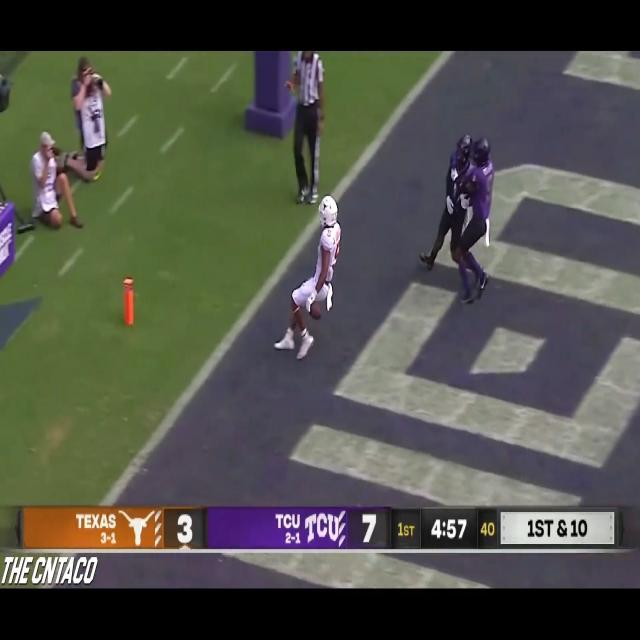football: (308, 299, 321, 320)
players: (275, 197, 342, 360), (419, 135, 475, 274), (462, 138, 496, 306)
